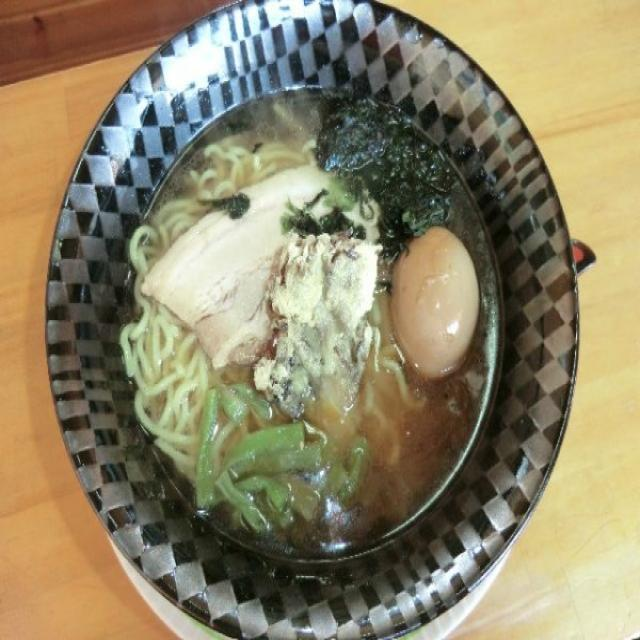面条主食: (34, 0, 584, 640)
